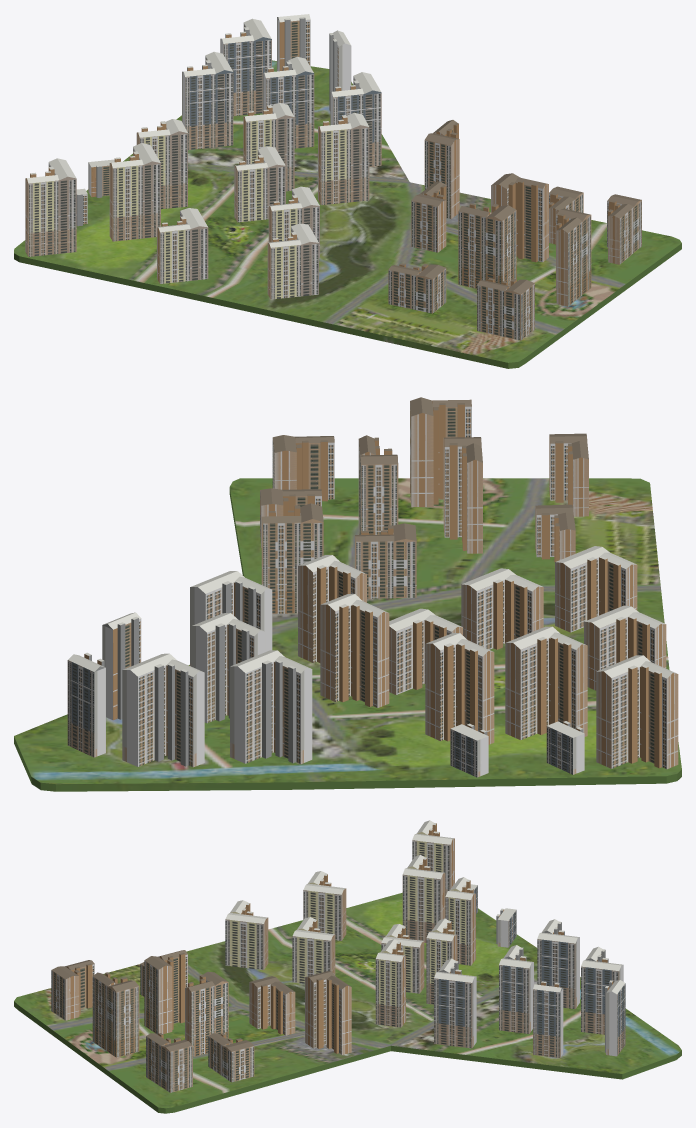
File: ICJ00104_C.glb
The picture shows the model from 3 angles, top to bottom: view 1: azimuth 30°, elevation 25°; view 2: azimuth 150°, elevation 25°; view 3: azimuth 270°, elevation 25°; orthographic projection. The views are drawn at different scales.
Parts seen in each view (by area): view 1: MainBuilding; view 2: MainBuilding; view 3: MainBuilding.
Part boxes in pixels (x1=…): MainBuilding: x1=14, y1=14, x2=681, y2=368; MainBuilding: x1=14, y1=397, x2=681, y2=791; MainBuilding: x1=14, y1=820, x2=681, y2=1113.
Size of the model in its own units: 3525 by 545 by 4451.
1 material, 1 textured.
